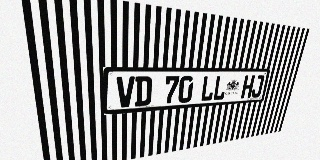0: (178, 76, 194, 103)
7: (163, 76, 180, 104)
D: (135, 76, 152, 106)
H: (241, 75, 255, 99)
J: (251, 75, 265, 98)
L: (200, 76, 216, 102), (212, 75, 228, 101)
V: (116, 76, 135, 108)
